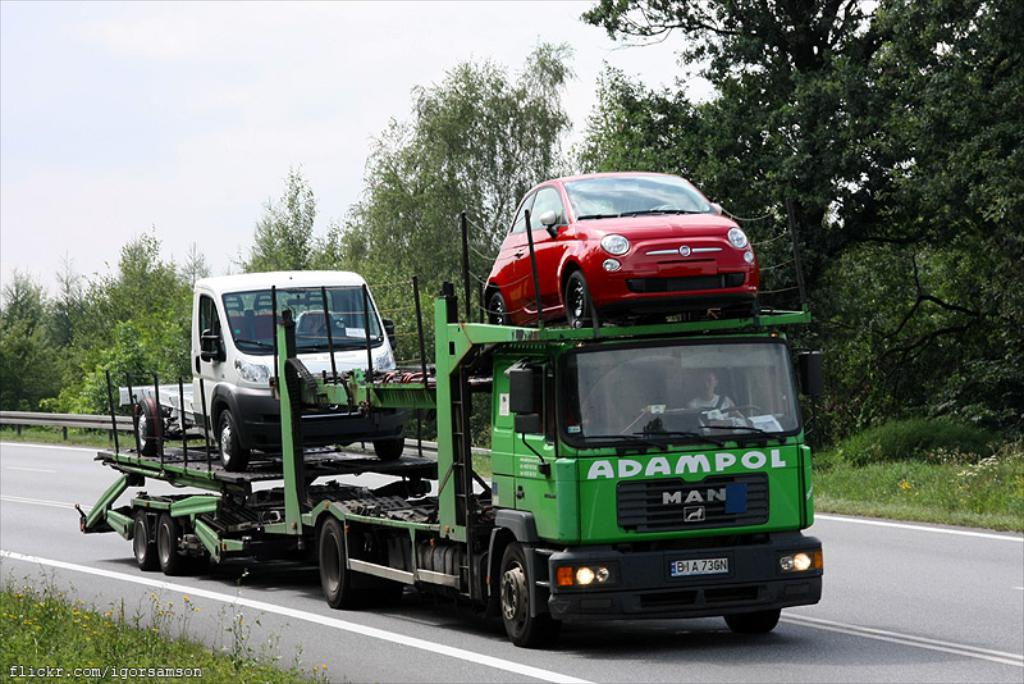Tree: (592, 0, 1022, 411), (350, 46, 577, 366), (244, 163, 441, 412), (46, 212, 248, 440), (0, 261, 149, 441)
